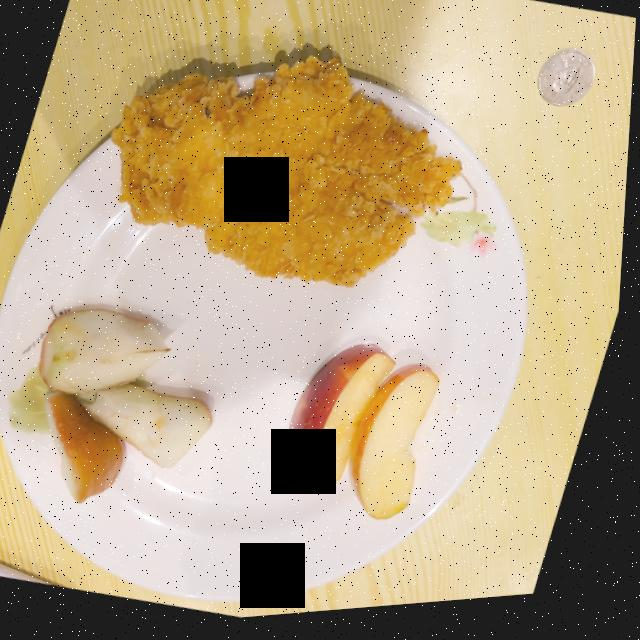apple -sliced-: (294, 351, 443, 526)
coin: (538, 58, 595, 115)
fried chicken cutlet: (112, 62, 462, 293)
